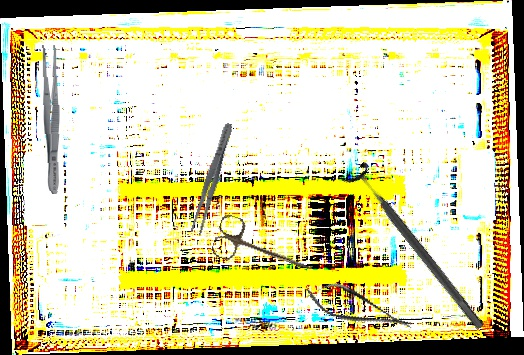Dressing Forceps: (188, 121, 237, 236), (39, 44, 64, 195)
Fixation Ring: (341, 160, 493, 338)
Iris Scissors: (209, 212, 320, 288)
Micro Scissor: (300, 273, 418, 344)
